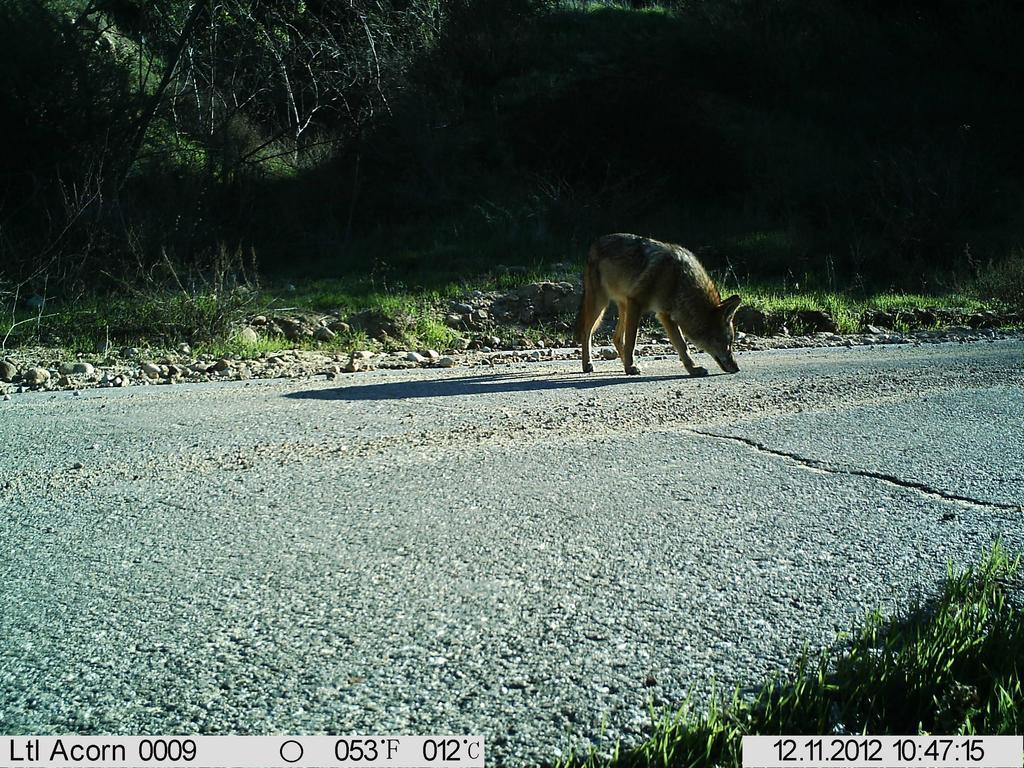coyote: (553, 212, 761, 413)
